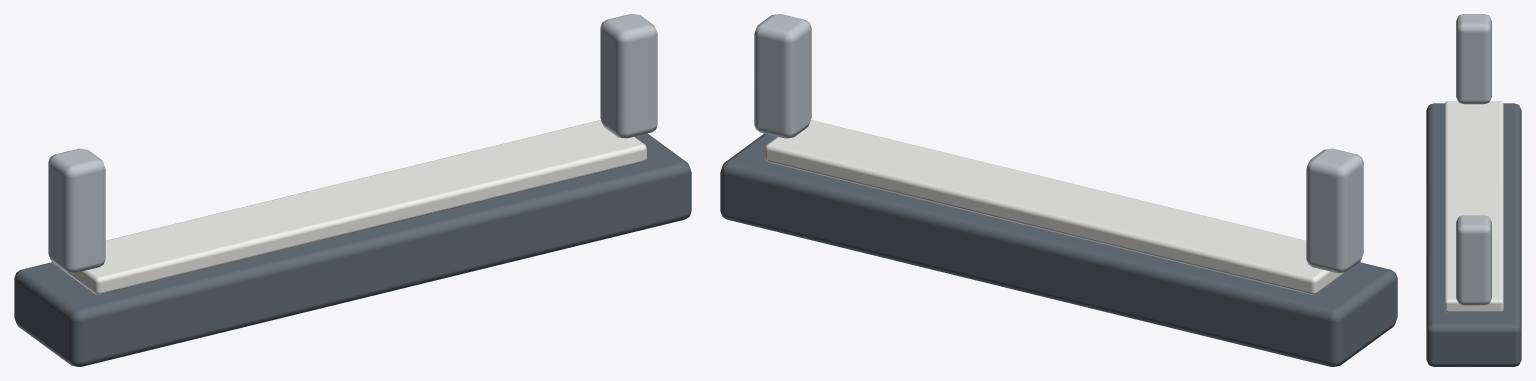
File: arena-shooter-map-kit-ceiling-light-bar-6c49d89a__23076.glb
3 views of the same model, side by side, from view 1: azimuth 30°, elevation 25°; view 2: azimuth 150°, elevation 25°; view 3: azimuth 270°, elevation 25° (orthographic). The views are drawn at different scales.
Parts seen in each view (by area): view 1: ceiling-light-bar; view 2: ceiling-light-bar; view 3: ceiling-light-bar.
Part boxes in pixels (left/top/right/bottom): ceiling-light-bar: left=14, top=14, right=691, bottom=366; ceiling-light-bar: left=720, top=14, right=1397, bottom=366; ceiling-light-bar: left=1426, top=14, right=1521, bottom=366.
Size of the model in its own units: 1.8 by 0.51 by 0.3199.
